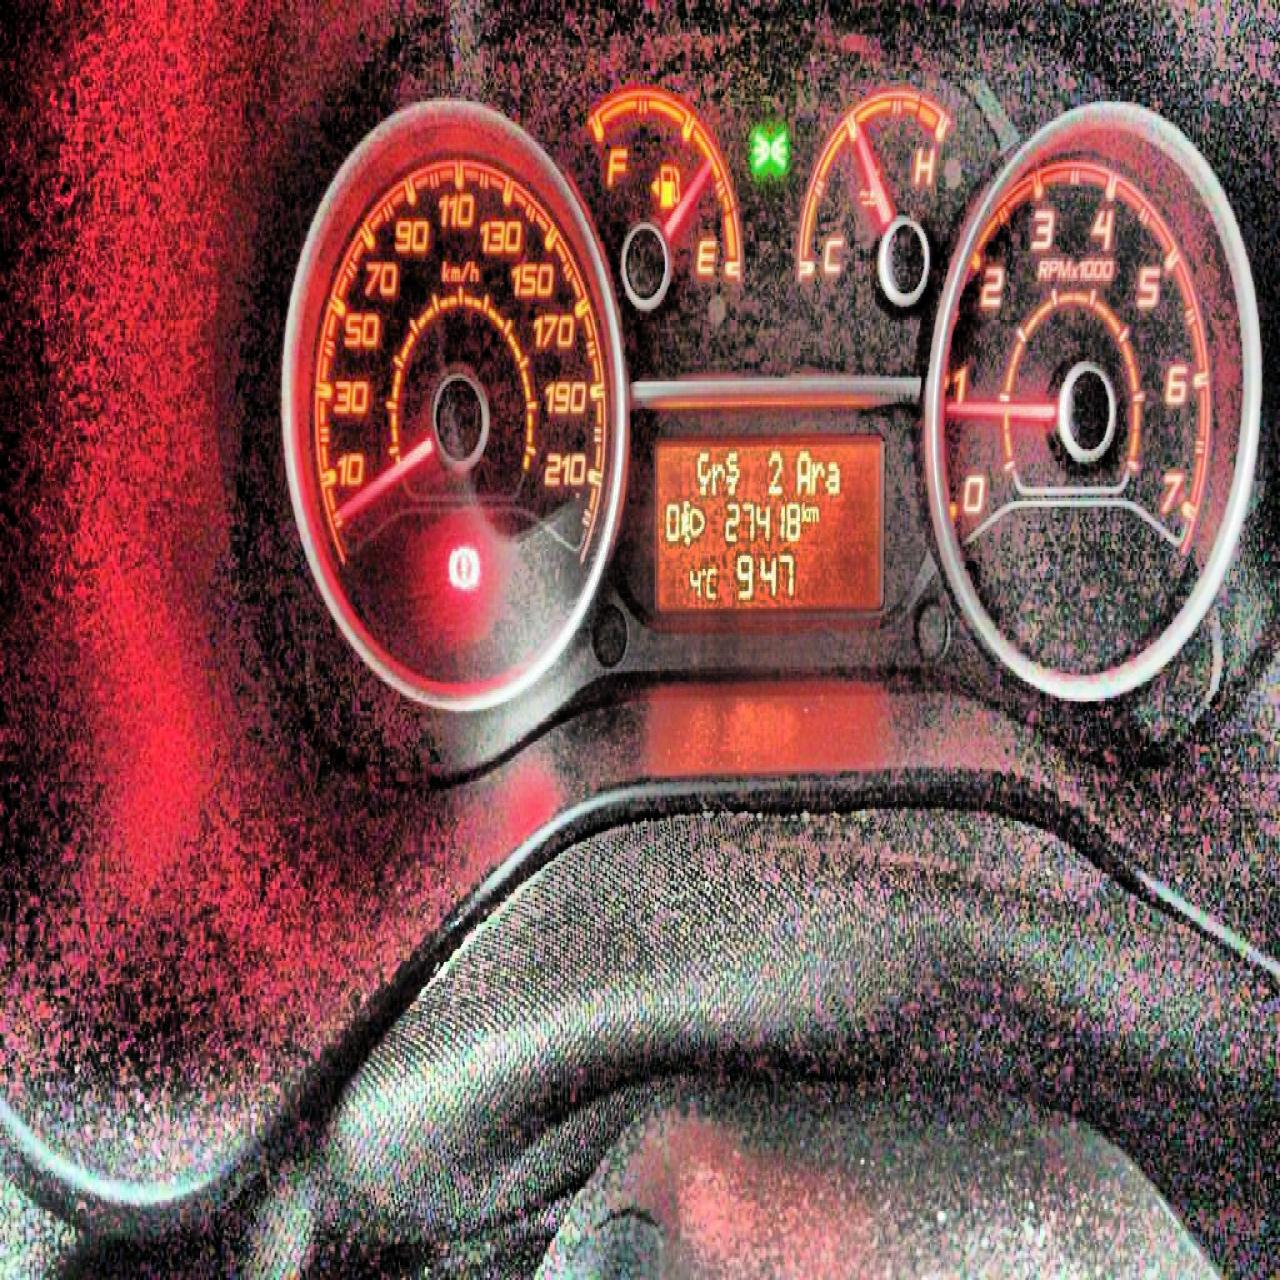0: (663, 498, 679, 540)
1: (777, 501, 784, 538)
2: (768, 444, 783, 496), (723, 501, 738, 542)
4: (758, 553, 776, 595), (755, 502, 770, 540), (688, 565, 700, 595)
7: (777, 551, 795, 595), (741, 498, 754, 540)
8: (785, 501, 799, 540)
9: (736, 551, 753, 600)
X: (796, 447, 810, 497), (695, 447, 709, 496), (825, 456, 840, 496), (726, 449, 738, 493), (810, 456, 824, 496), (704, 564, 719, 600), (710, 459, 724, 493), (808, 502, 818, 520), (801, 498, 808, 520)
odometer: (651, 429, 885, 611)
